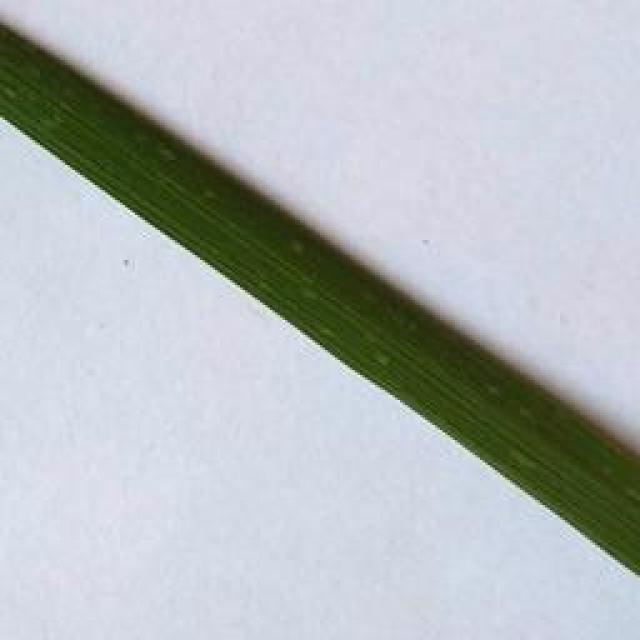Healthy-Plant: (0, 24, 640, 571)
